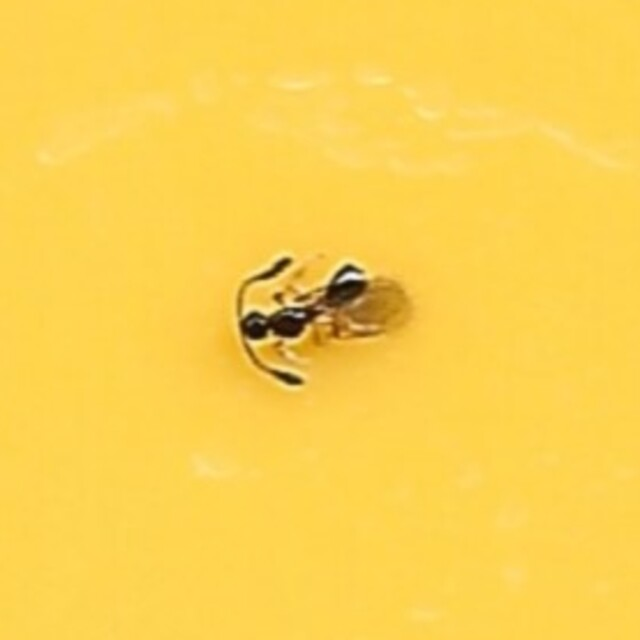Hymenoptera: (231, 250, 409, 390)
